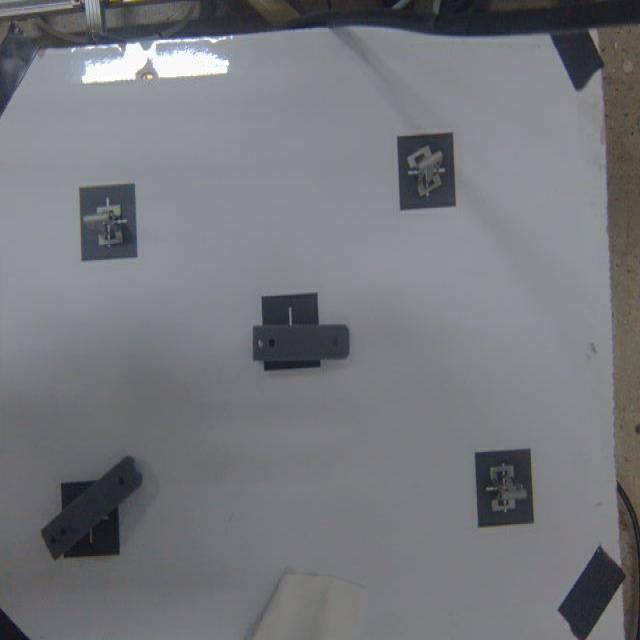pick1: (81, 187, 138, 257)
pick2: (400, 134, 458, 208)
pick5: (475, 450, 535, 528)
